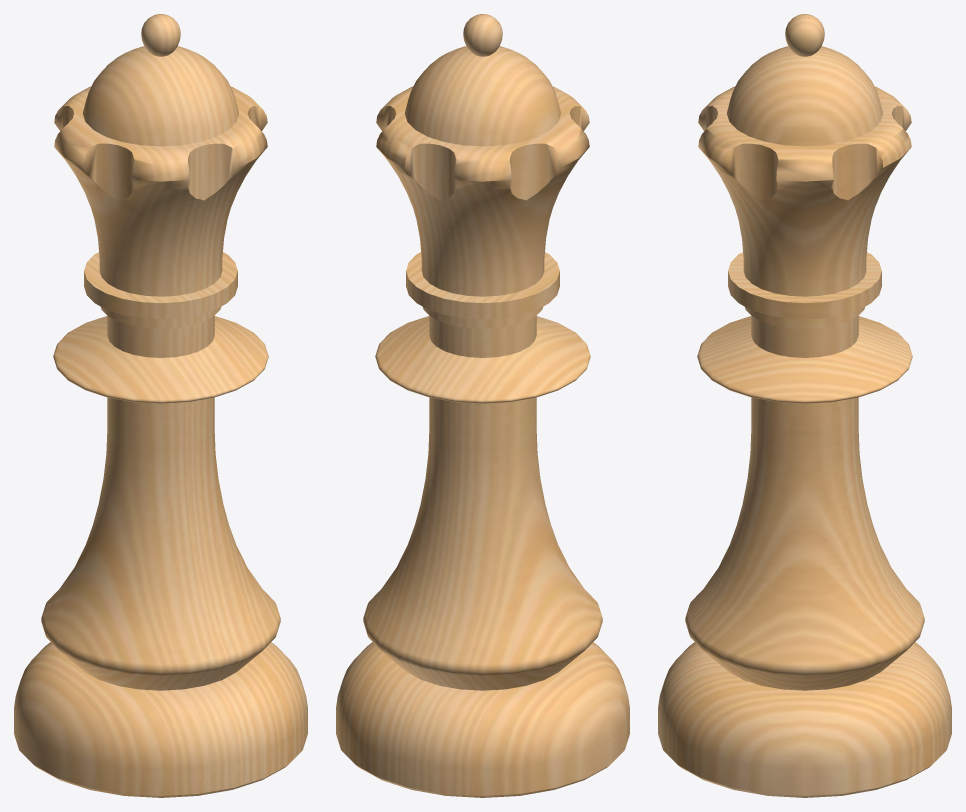
The model's file is white_queen.gltf.
3 views of the same model, side by side, from view 1: azimuth 30°, elevation 25°; view 2: azimuth 150°, elevation 25°; view 3: azimuth 270°, elevation 25° (orthographic).
Visible parts, largest first — view 1: Material2037, Material2039, Material2041, Material2040, Material2038; view 2: Material2037, Material2039, Material2041, Material2040, Material2038; view 3: Material2037, Material2039, Material2041, Material2040, Material2038.
Boxes of the visible parts, box(x1,y1,x2,y2) form: Material2037: box(14, 316, 307, 797); Material2039: box(54, 86, 267, 296); Material2041: box(82, 14, 239, 146); Material2040: box(84, 252, 237, 319); Material2038: box(101, 307, 220, 328); Material2037: box(336, 316, 629, 797); Material2039: box(376, 86, 589, 296); Material2041: box(404, 14, 561, 146); Material2040: box(406, 252, 559, 319); Material2038: box(423, 307, 542, 328); Material2037: box(658, 316, 951, 797); Material2039: box(698, 86, 911, 296); Material2041: box(726, 14, 883, 146); Material2040: box(728, 252, 881, 319); Material2038: box(745, 307, 864, 328).
Size of the model in its own units: 0.2069 by 0.5607 by 0.2069.
1 material, 1 textured.
